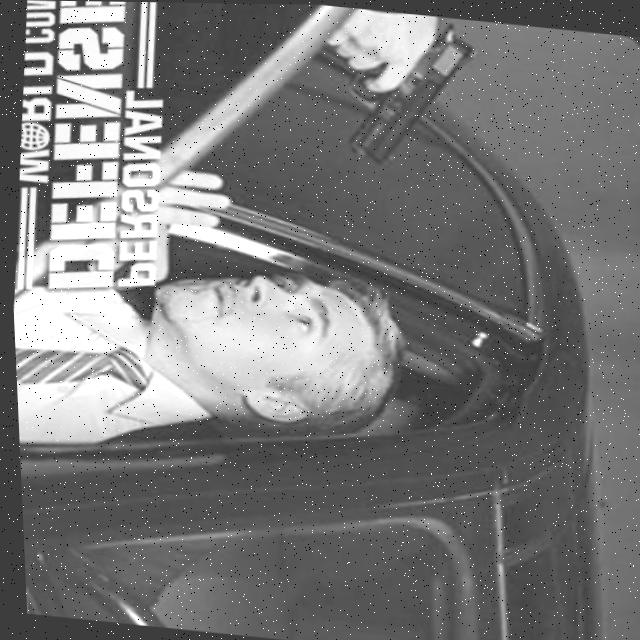pistol: (333, 10, 484, 175)
